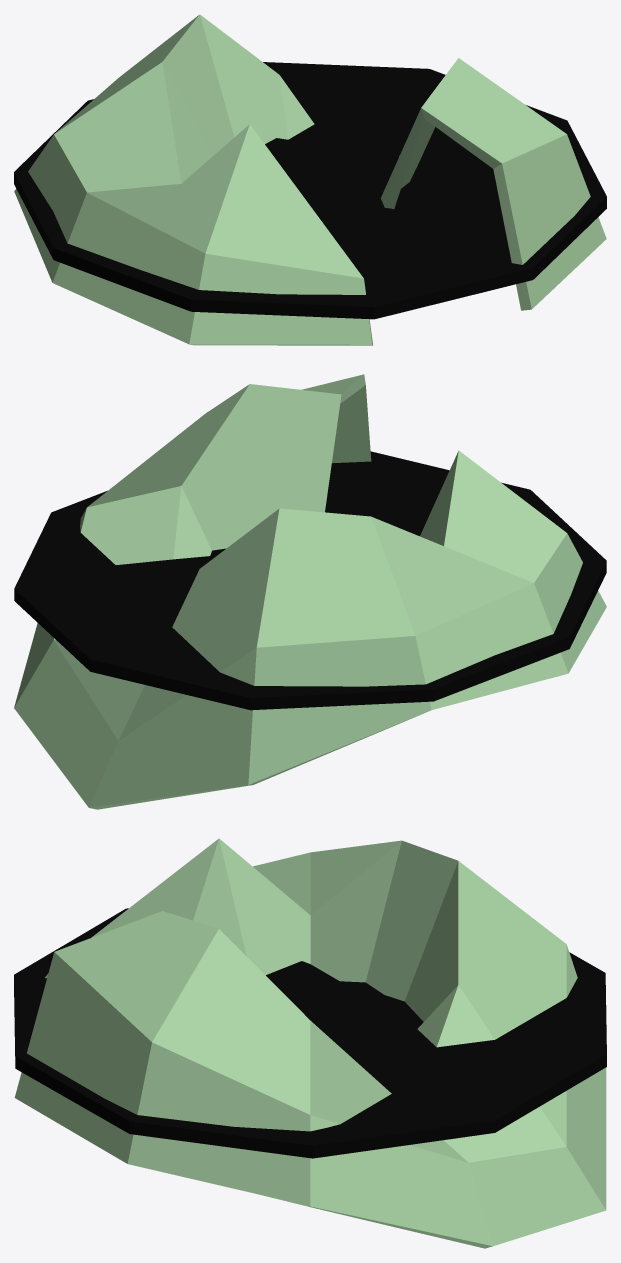
Rendered from DestroyedCanon.glb.
3 renders of one model, top to bottom at view 1: azimuth 30°, elevation 25°; view 2: azimuth 150°, elevation 25°; view 3: azimuth 270°, elevation 25°, orthographic. The views are drawn at different scales.
Parts seen in each view (by area): view 1: CanonBase1, CanonBase3; view 2: CanonBase1, CanonBase3; view 3: CanonBase1, CanonBase3.
Part boxes in pixels (x1,y1,x2,y2): CanonBase1: [14, 14, 606, 345]; CanonBase3: [14, 62, 606, 319]; CanonBase1: [14, 374, 606, 809]; CanonBase3: [14, 451, 606, 710]; CanonBase1: [14, 838, 606, 1248]; CanonBase3: [14, 908, 606, 1158].
Size of what is drawn, in the model's own units: 2 by 1.06 by 1.91.
